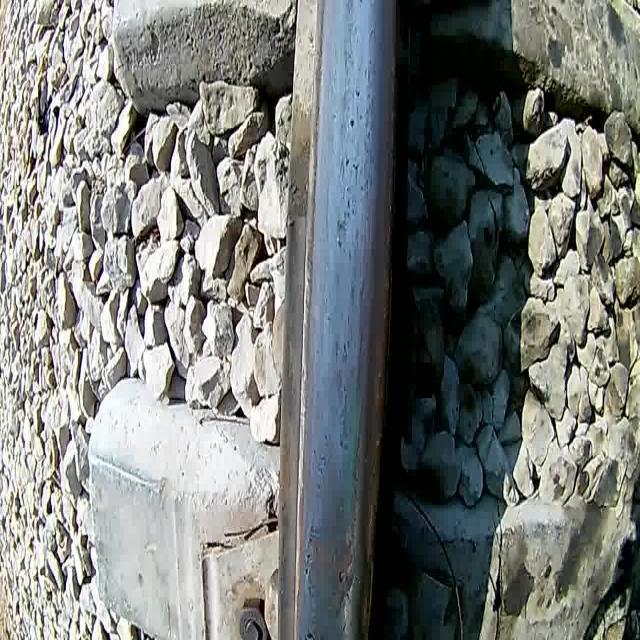Squats: (303, 527, 358, 623)
